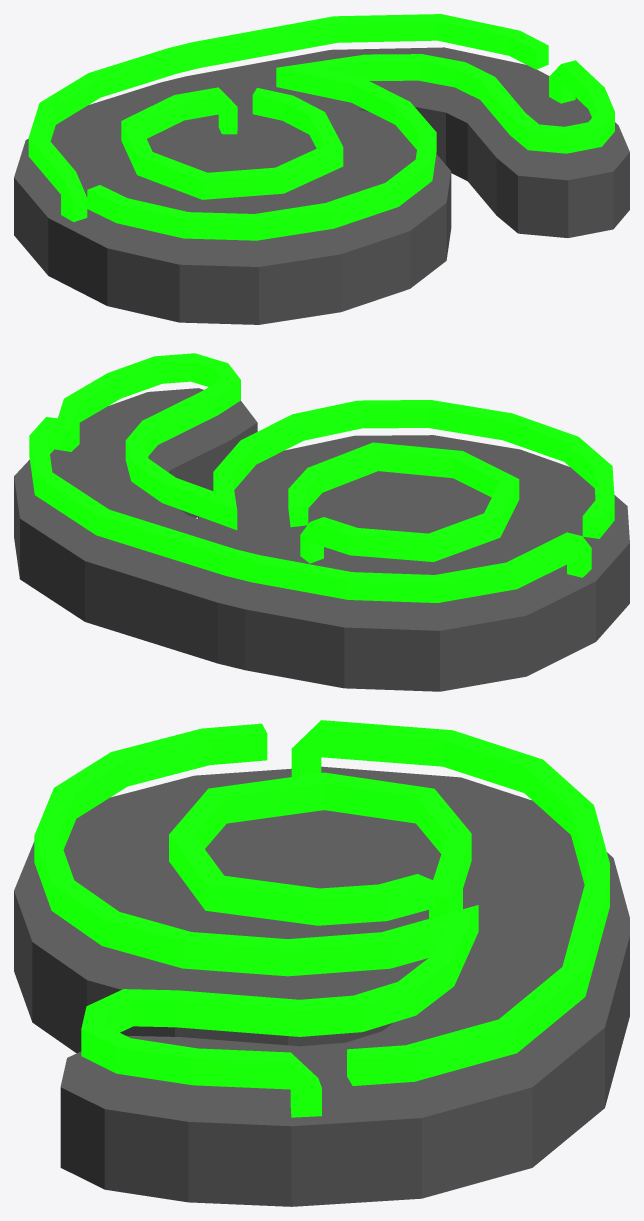
The model's file is Number_3D_03_6.FBX.
3 views of the same model, one above another, from view 1: azimuth 30°, elevation 25°; view 2: azimuth 150°, elevation 25°; view 3: azimuth 270°, elevation 25° (orthographic). The views are drawn at different scales.
Parts seen in each view (by area): view 1: Number_3D_03_6; view 2: Number_3D_03_6; view 3: Number_3D_03_6.
Part boxes in pixels (bbox=[...]): Number_3D_03_6: bbox=[14, 14, 629, 324]; Number_3D_03_6: bbox=[14, 353, 629, 691]; Number_3D_03_6: bbox=[14, 720, 629, 1206].
Size of the model in its own units: 71.75 by 12.63 by 51.94.
